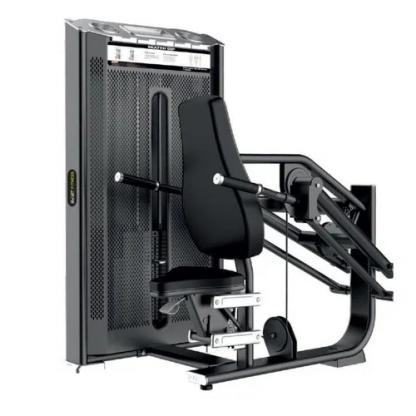seated dip machine: (63, 17, 400, 391)
